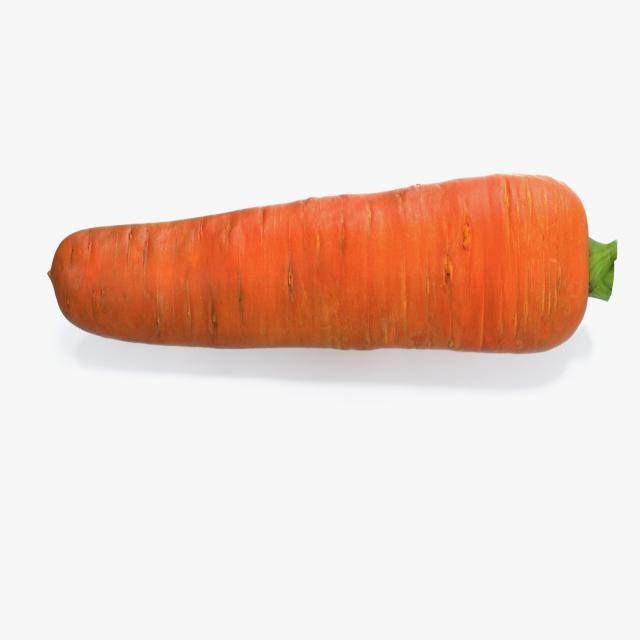carrot: (48, 158, 620, 353)
